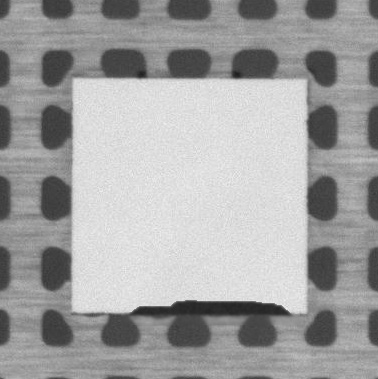DIE_BROKEN: (127, 298, 292, 319)
